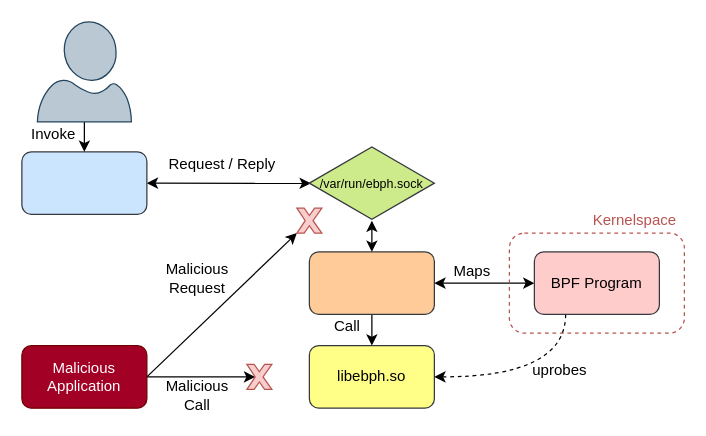
This 706x436 diagram has some shape labels left out. Each missing label, with the box of its shape:
ebph-admin: (21, 151, 147, 214)
ebphd: (308, 251, 434, 314)
